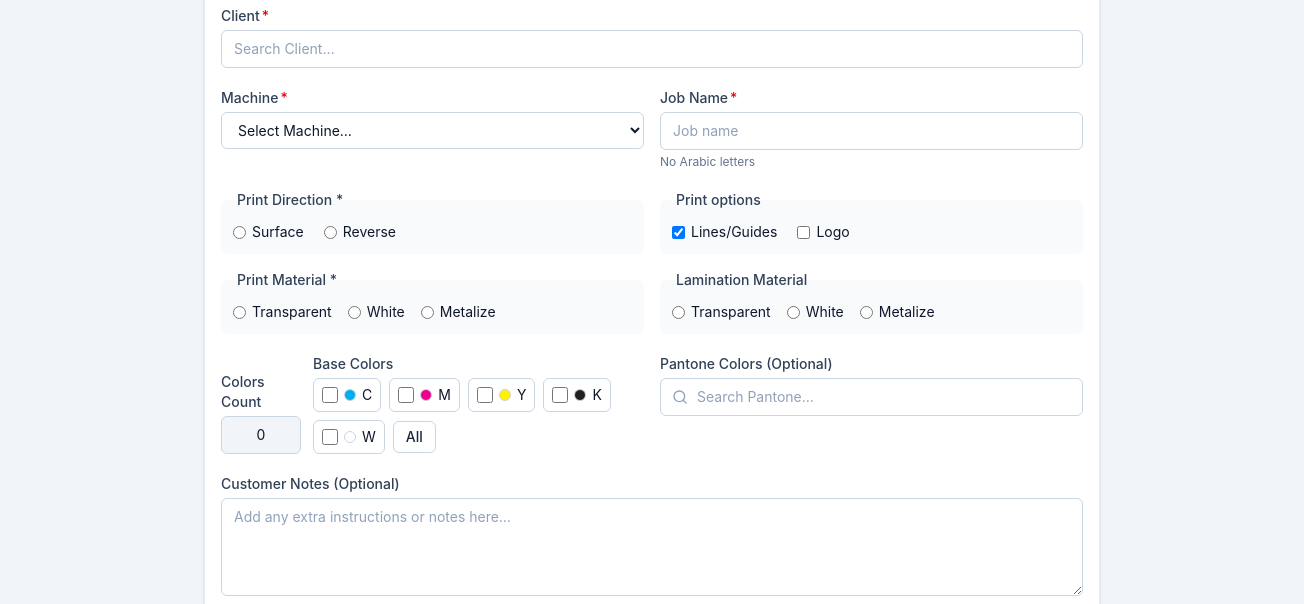
Scenario: OrderForm (staff) › shows server-side field errors on the right inputs
Select "Flexo 8 (FX-8)" in the dropdown labelled "Machine*" at (432, 130), box [221,112,644,149]
Type "Coffee bag" into the field labelled "Job Name*" at (872, 131), box [660,112,1083,150]
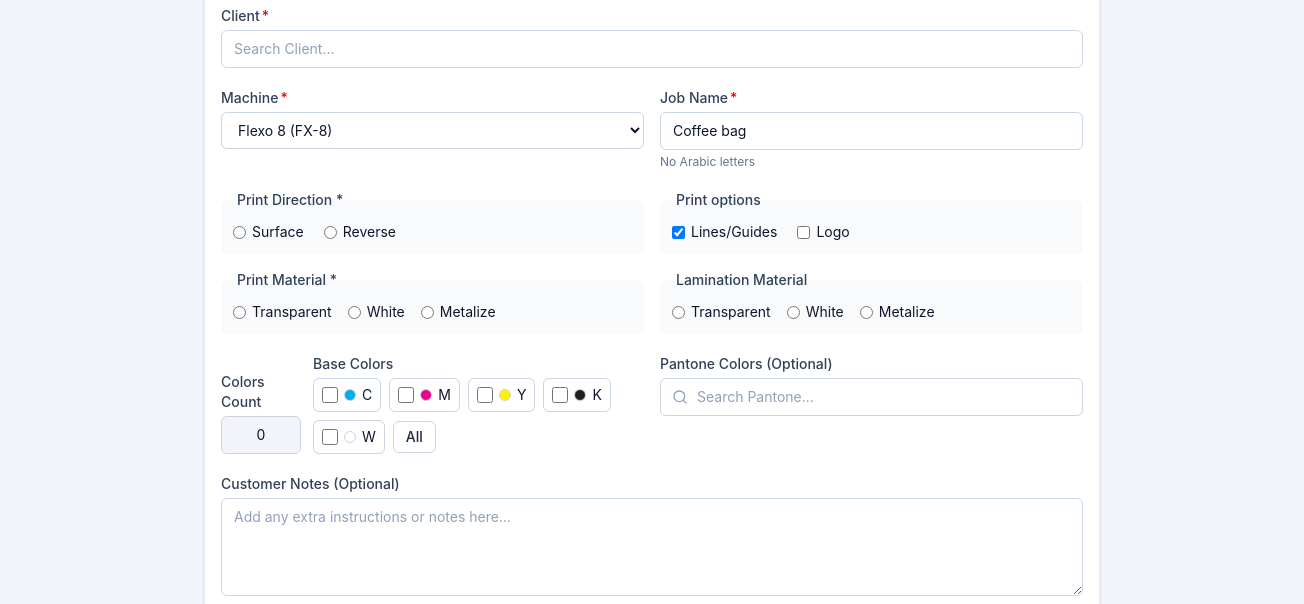
Click the radio button labelled "Surface" at (240, 232), box [233,226,246,238]
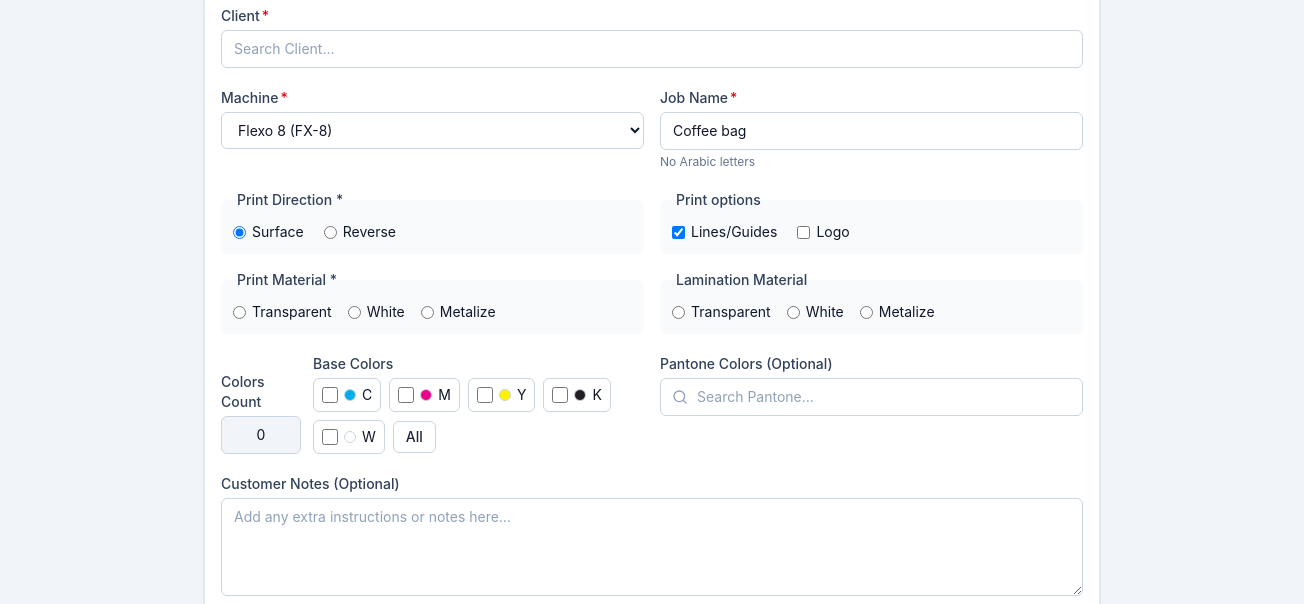
Click the radio button labelled "Transparent" below "Print Material" at (240, 312), box [233,306,246,318]
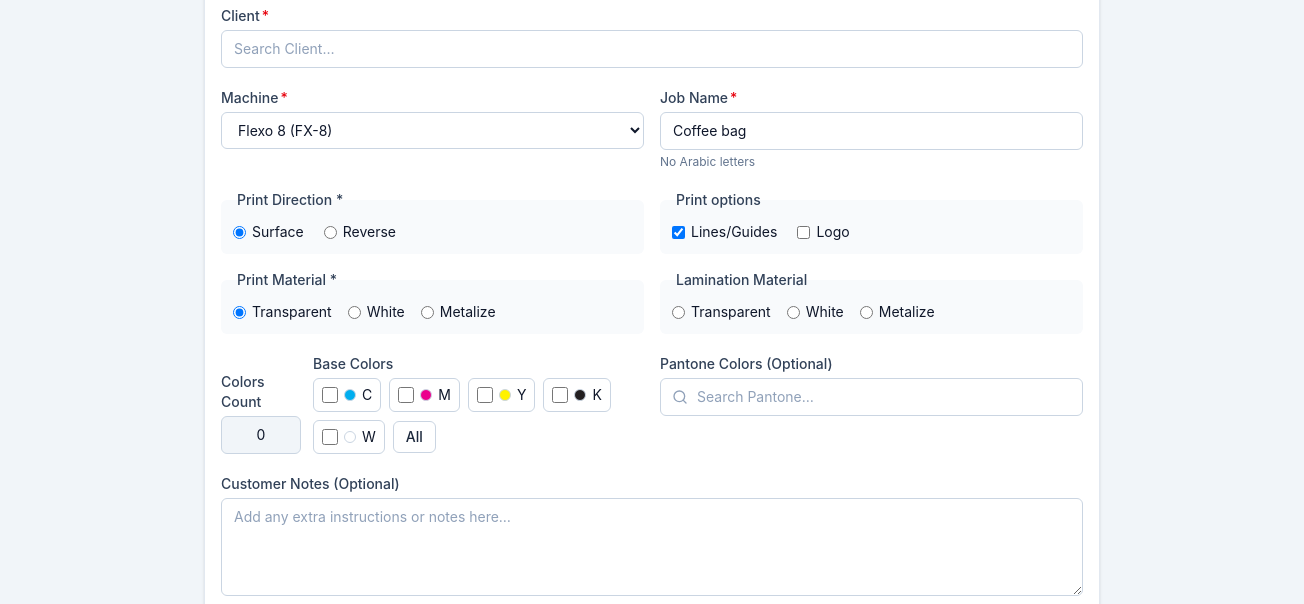
Focus the dropdown with placeholder "Search Client…" at (652, 49), box [221,30,1083,68]
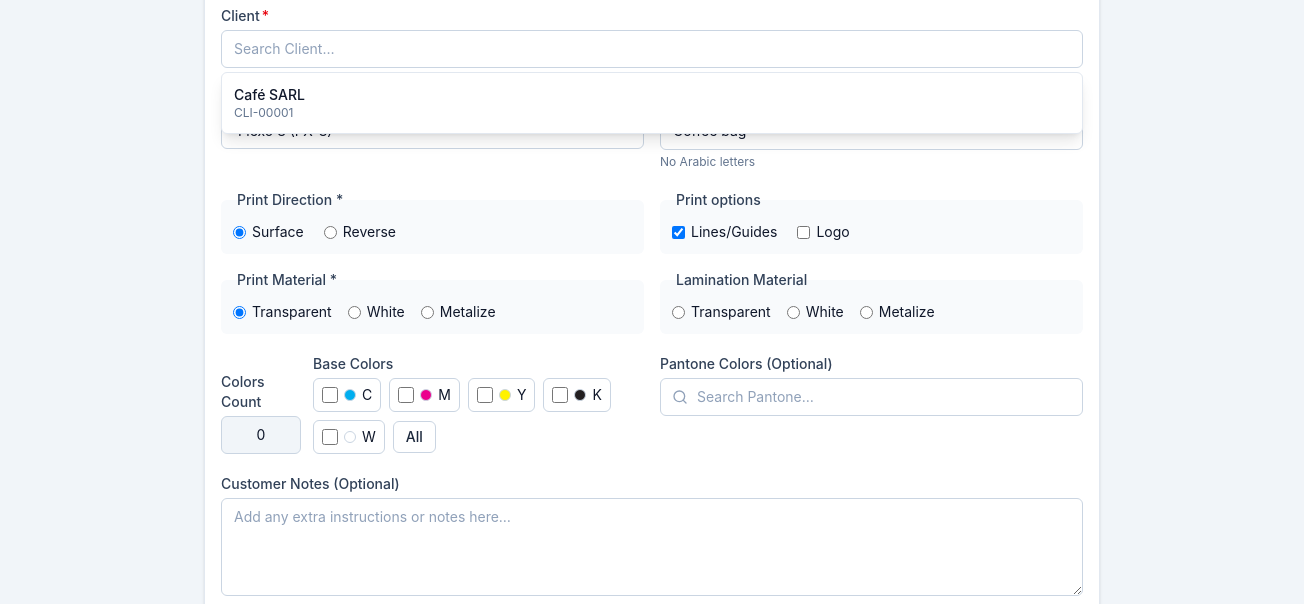
Click the text "Café SARL" at (270, 95), box [234,85,305,105]
(page scrolled)
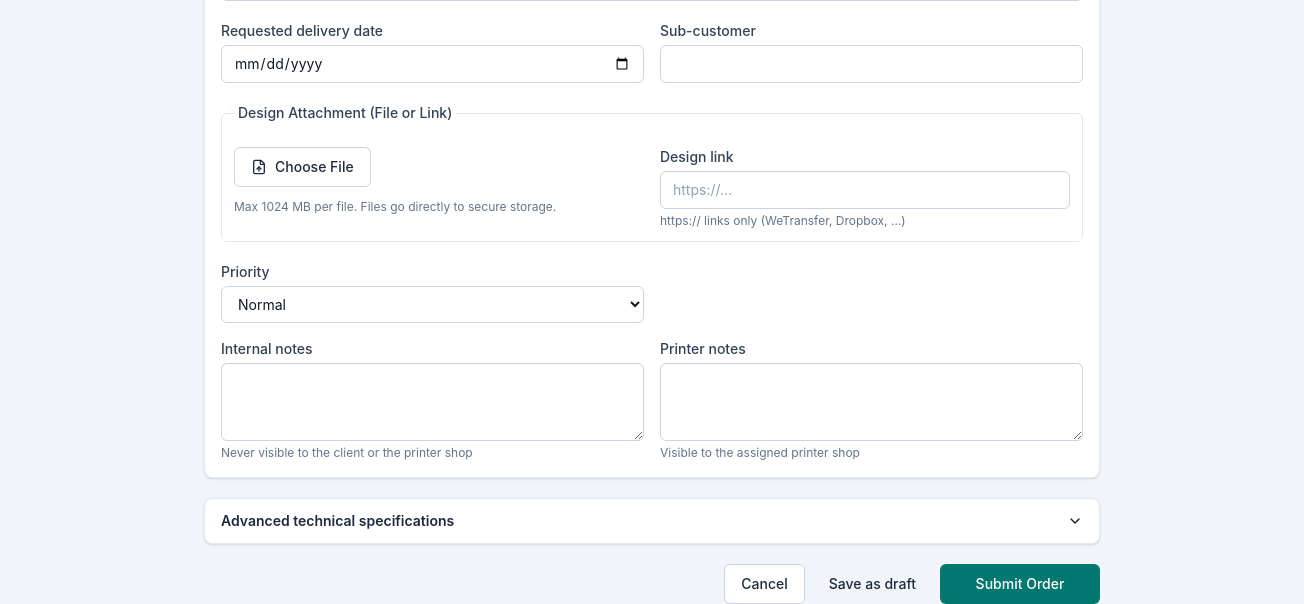
Click the button "Submit Order" at (1020, 584), box [940,564,1100,603]
(page scrolled)
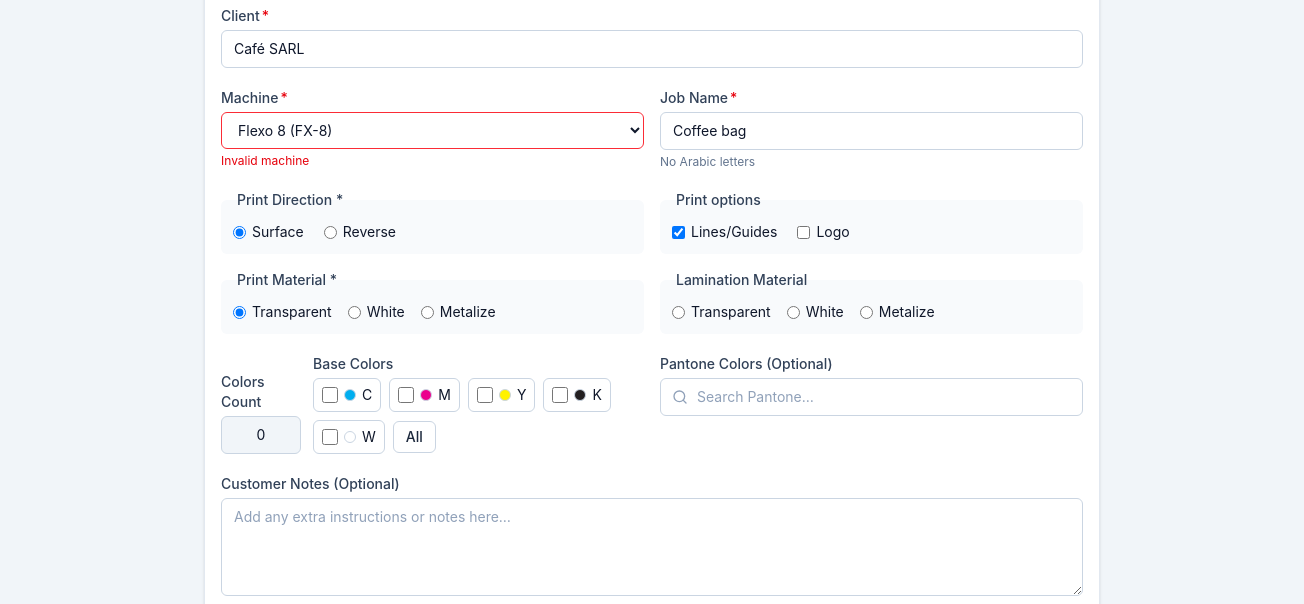
Now the text "Invalid machine" is shown, box [221,153,309,168]
